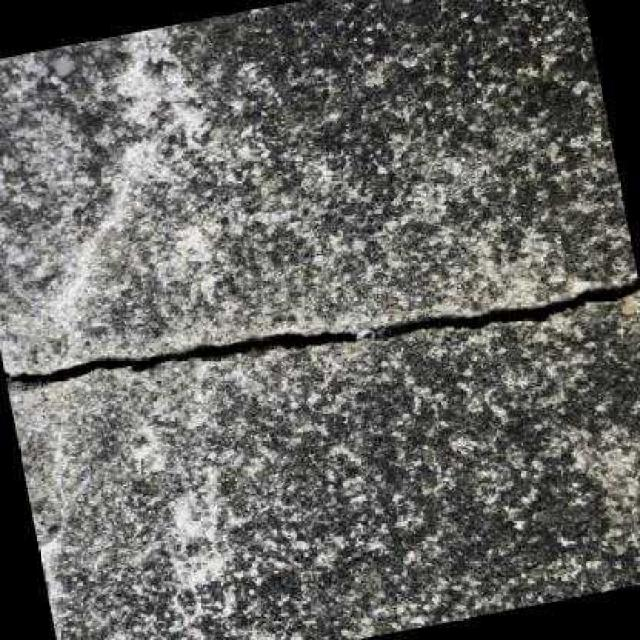D00: (3, 274, 640, 384)
